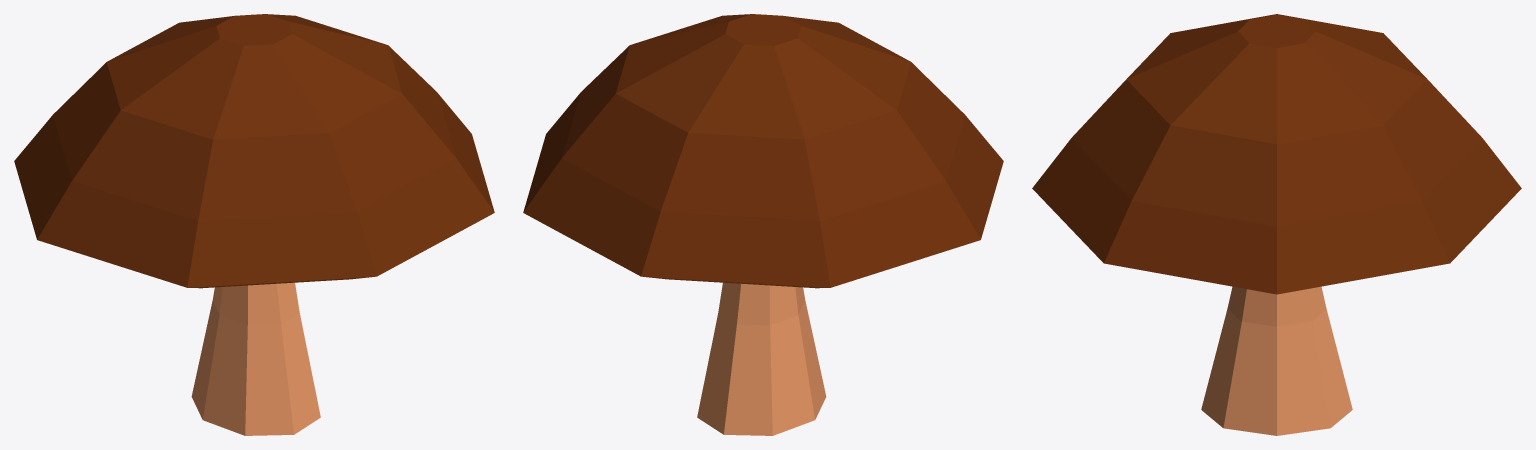
Rendered from ENV_Mushroom01_Placeholder.fbx.
3 renders of one model, left to right at view 1: azimuth 30°, elevation 25°; view 2: azimuth 150°, elevation 25°; view 3: azimuth 270°, elevation 25°, orthographic.
Visible parts, largest first — view 1: Circle; view 2: Circle; view 3: Circle.
Part boxes in pixels (x1,y1,x2,y2): Circle: (14,14,494,435); Circle: (523,14,1003,435); Circle: (1032,14,1521,435).
Size of the model in its own units: 59.92 by 49.72 by 58.45.
